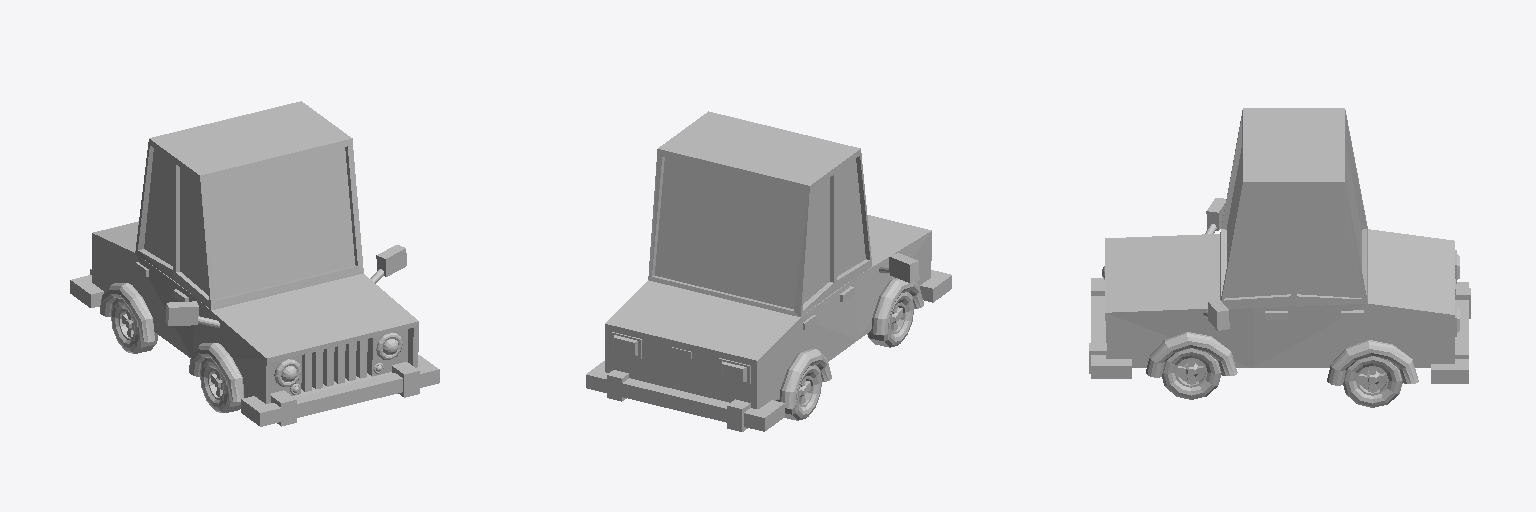
The model's file is redcar.obj.
3 views of the same model, side by side, from view 1: azimuth 30°, elevation 25°; view 2: azimuth 150°, elevation 25°; view 3: azimuth 270°, elevation 25° (orthographic).
Size of the model in its own units: 1.08 by 0.9688 by 1.5.